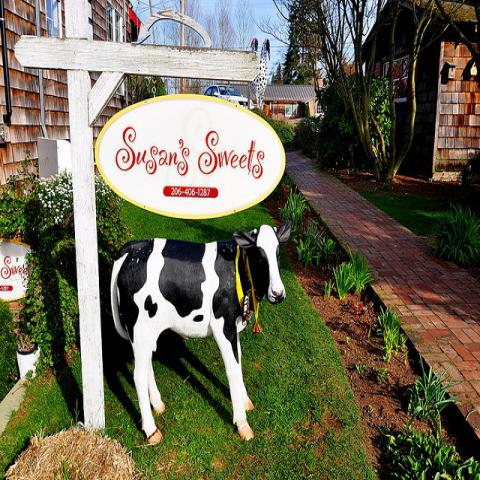car: (203, 84, 254, 110)
